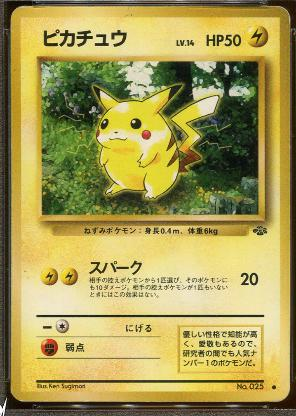Card: (6, 1, 290, 404)
Corner Wear: (285, 10, 290, 24)
